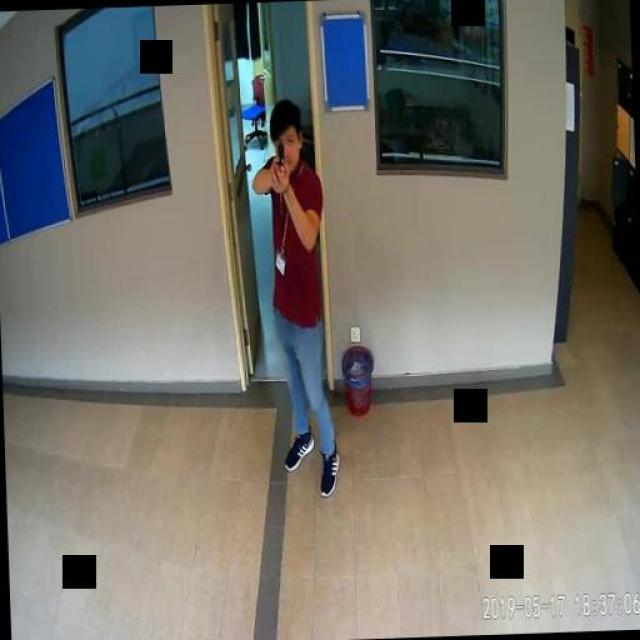gun: (272, 138, 286, 178)
